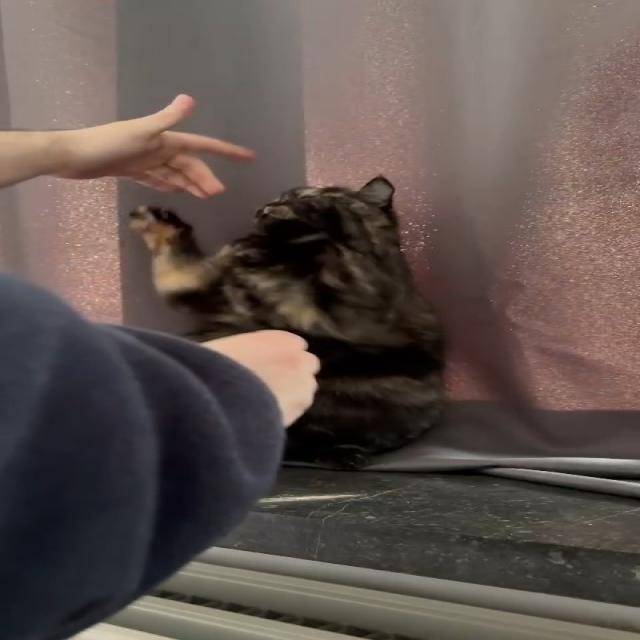authorized: (126, 174, 450, 471)
